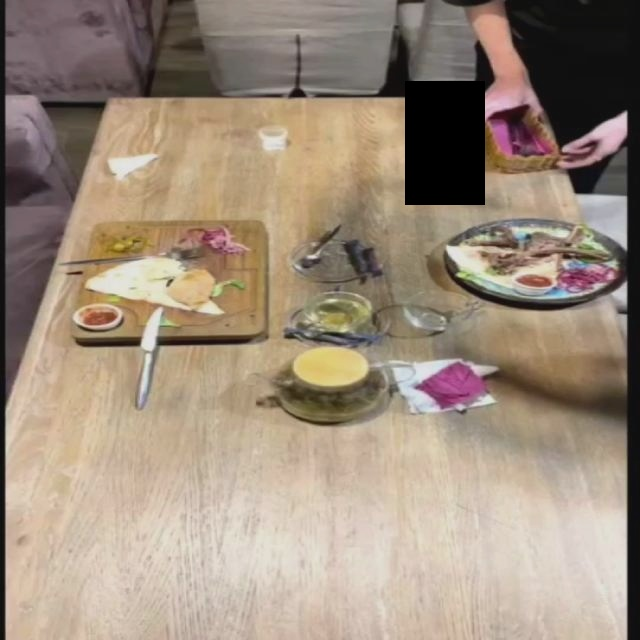meat: (63, 215, 273, 342), (442, 215, 628, 332)
tea: (258, 335, 420, 463)
